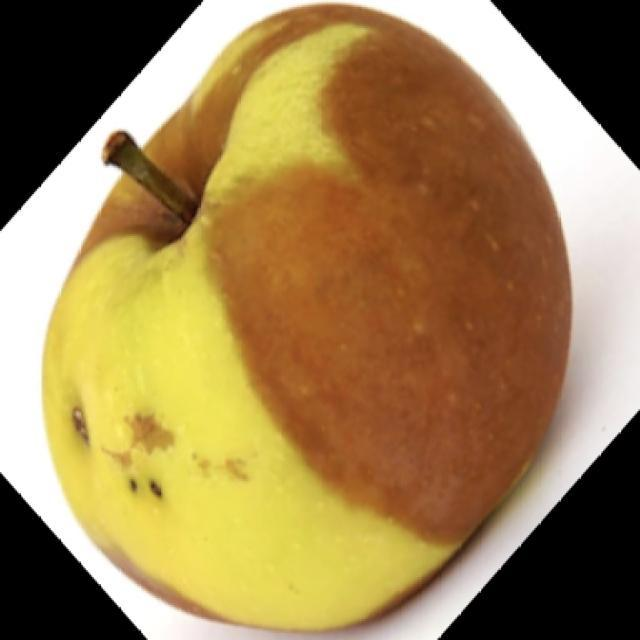Rotten: (66, 11, 566, 640)
